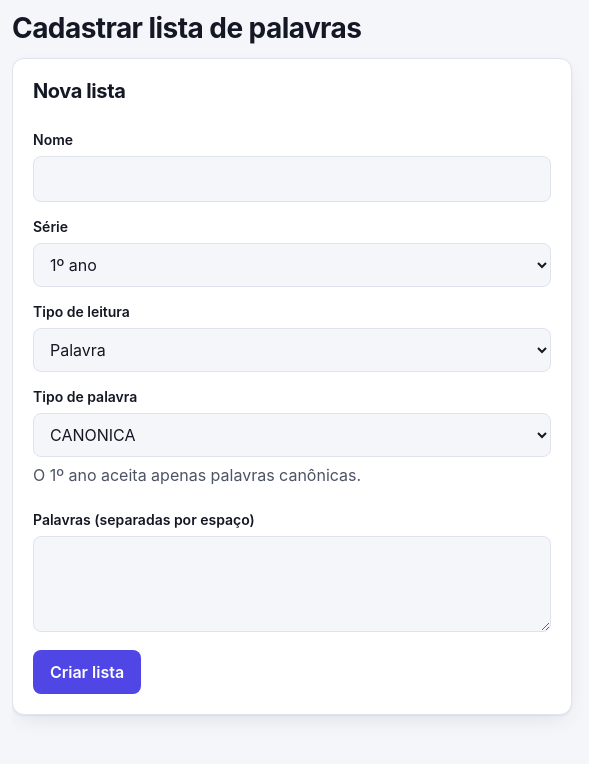
Test case: ListasPalavrasPage › shows the 409 message at the top and the 422 message next to the field
In the field labelled "Nome": point(292, 179) [33,156,551,202], type "Lista Nova"
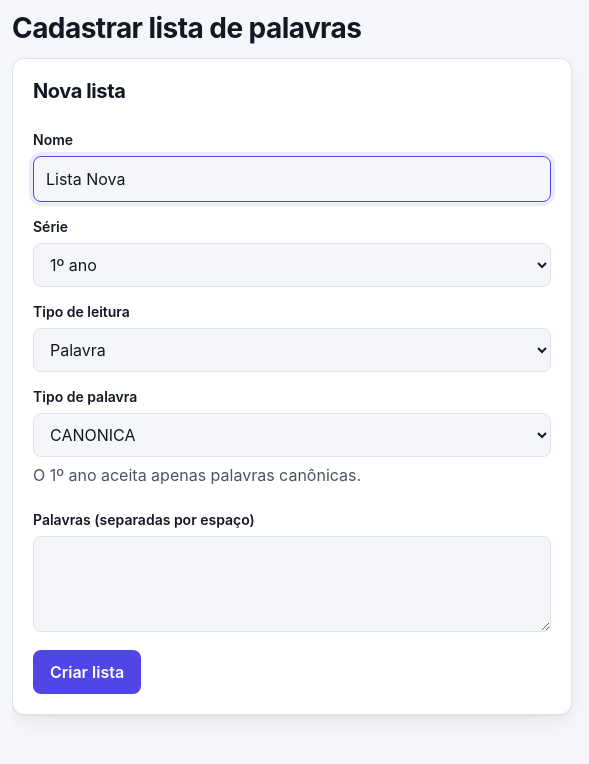
Select "2º ano" in the dropdown labelled "Série": point(292, 265) [33,243,551,287]
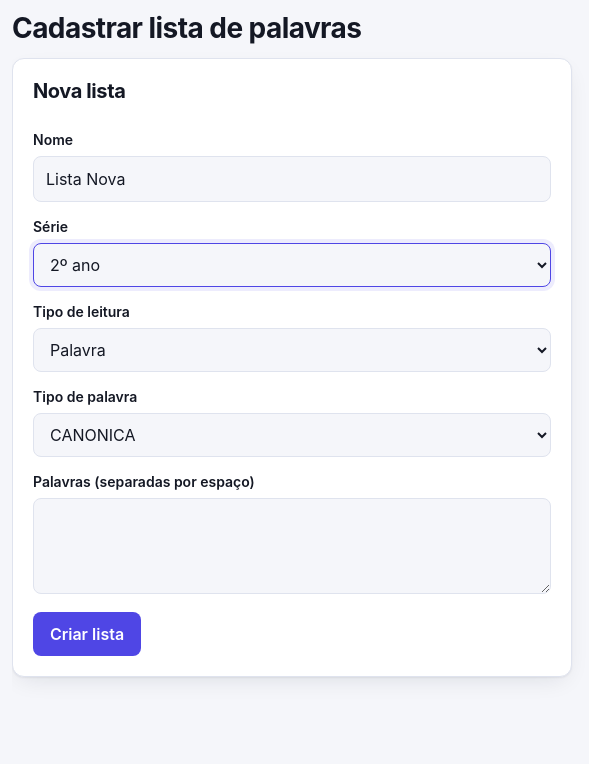
In the text box labelled "Palavras (separadas por espaço)": point(292, 546) [33,498,551,594], type "gato bola"
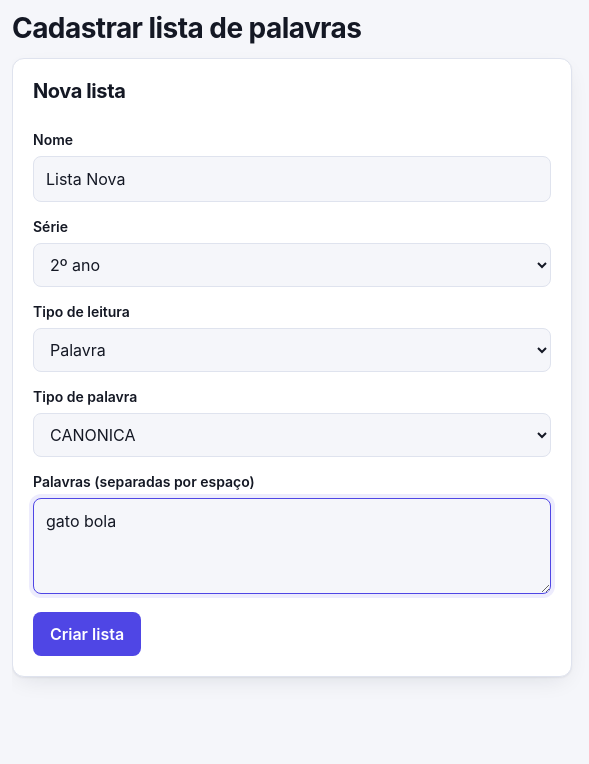
Click the button "Criar lista": point(87, 634) [33,612,141,656]
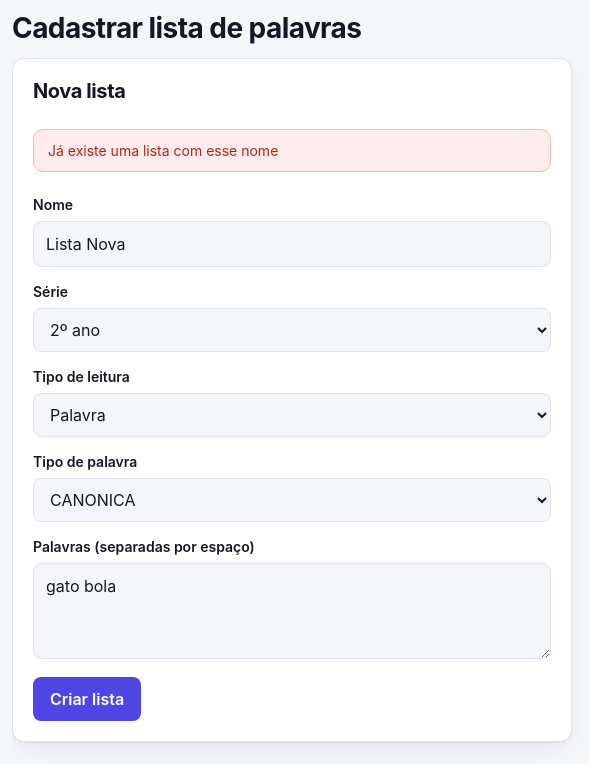
expect the message reads "Já existe uma lista com esse nome": met, box [48,142,278,159]
Click the button "Criar lista": point(87, 699) [33,677,141,721]
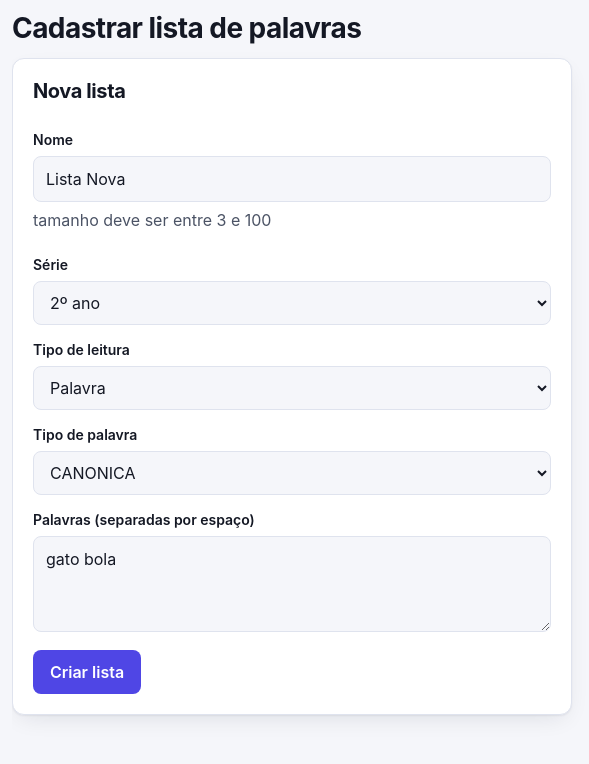
expect the text "tamanho deve ser entre 3 e 100" is shown: met, box [33,210,271,230]
